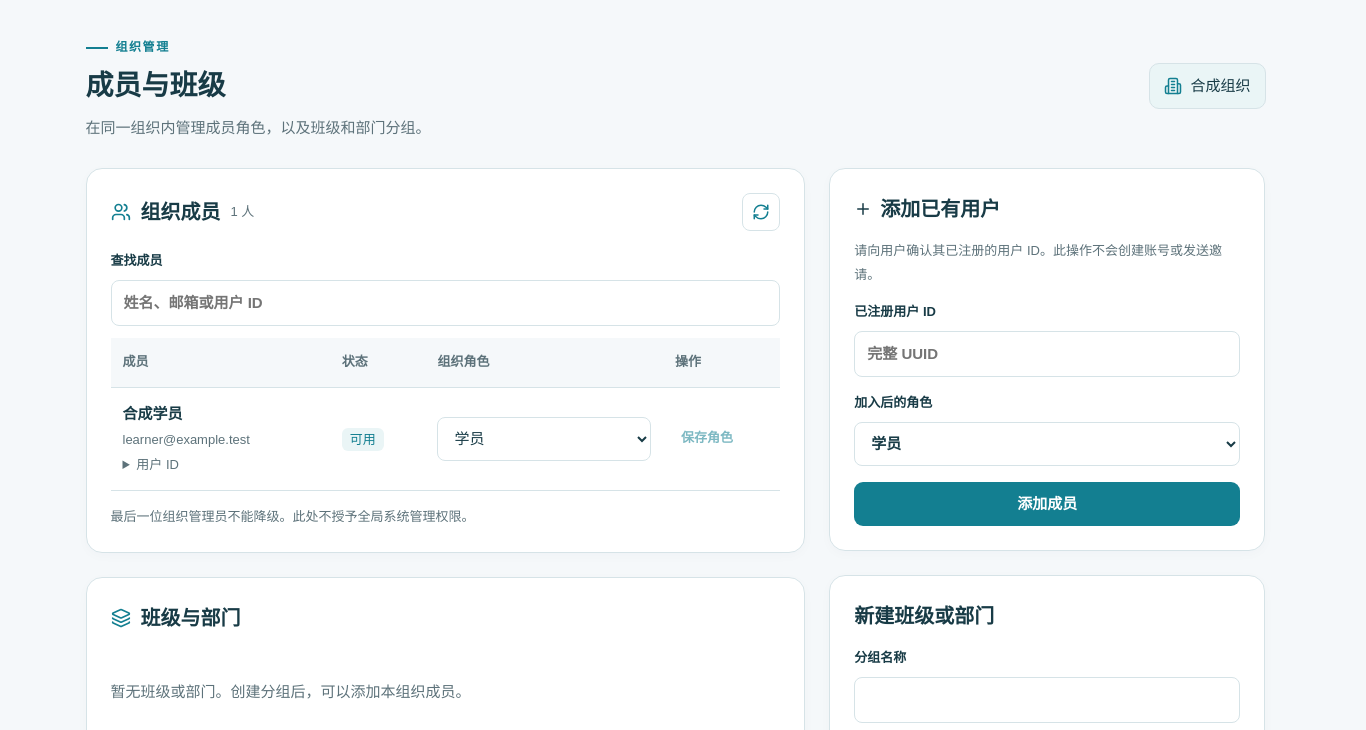
Test: MembersView › keeps an unsuccessful self-role change error visible
Select "评估员" in the dropdown with test id "role-user-1" at (544, 439), box 437,417 -> 651,461
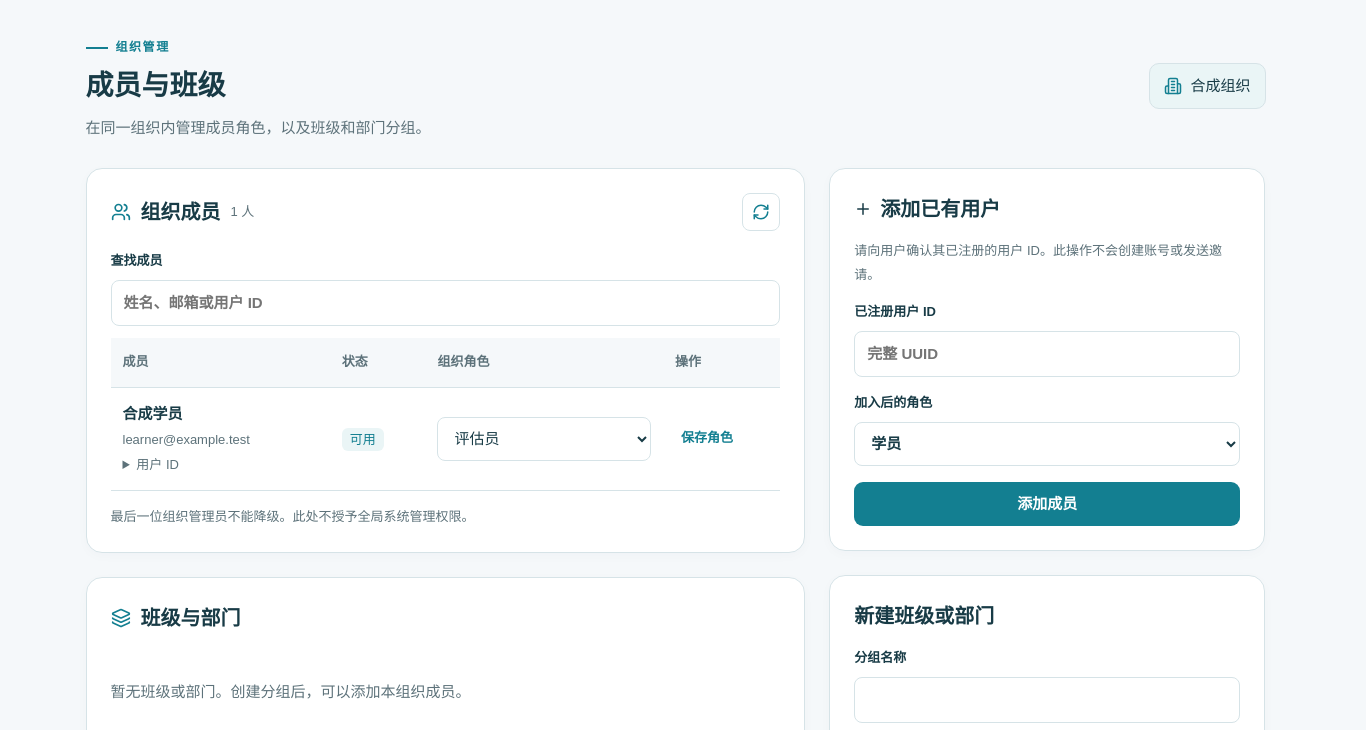
Click the button with test id "save-role-user-1" at (707, 439), box 675,417 -> 739,461
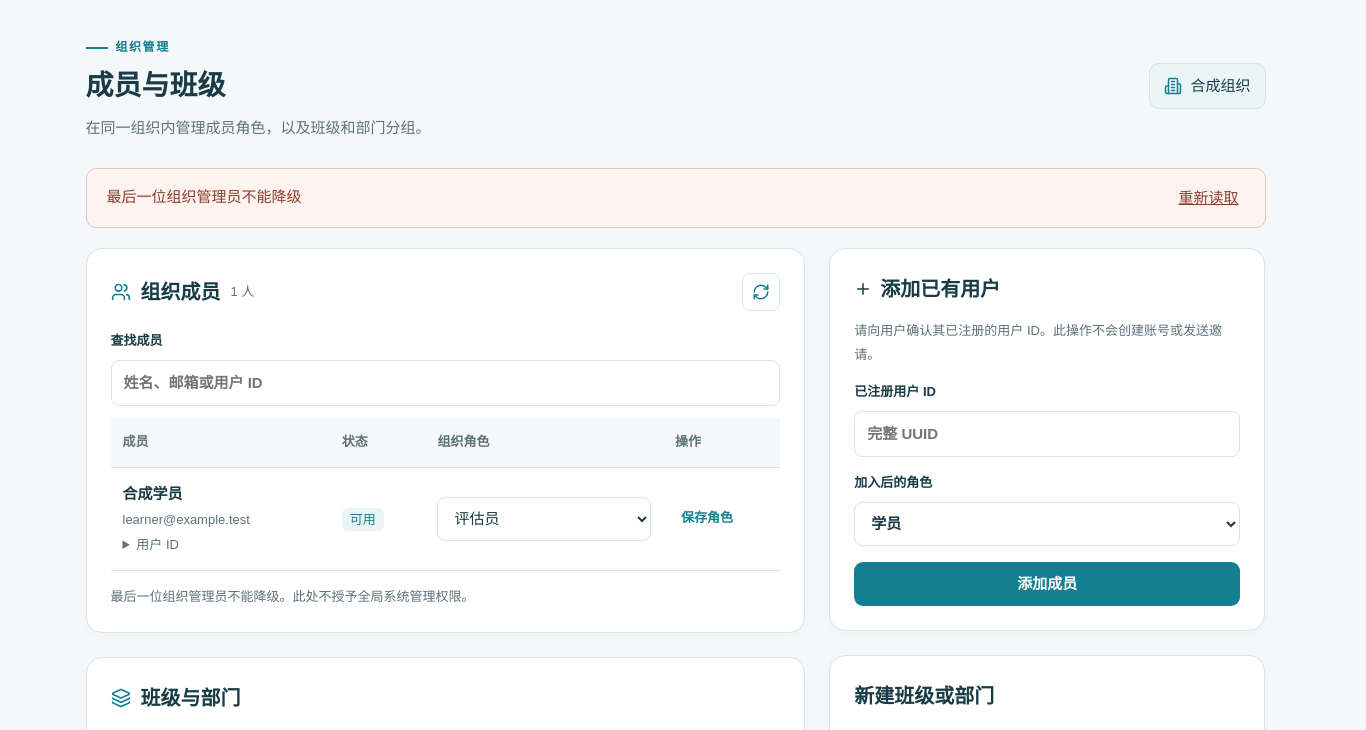
Expected: the message "最后一位组织管理员不能降级 重新读取" is shown, 86,168 -> 1266,228
